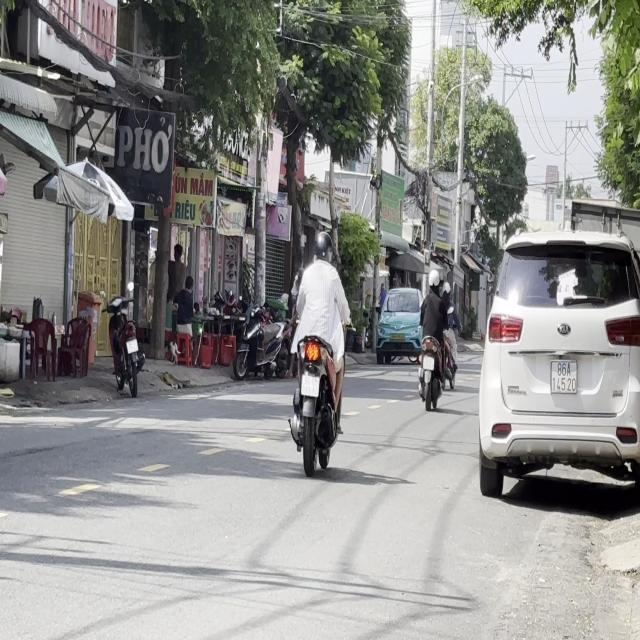helmet: (312, 229, 331, 261)
licenseplate: (287, 227, 350, 473)
nohelmet: (300, 374, 320, 397)
